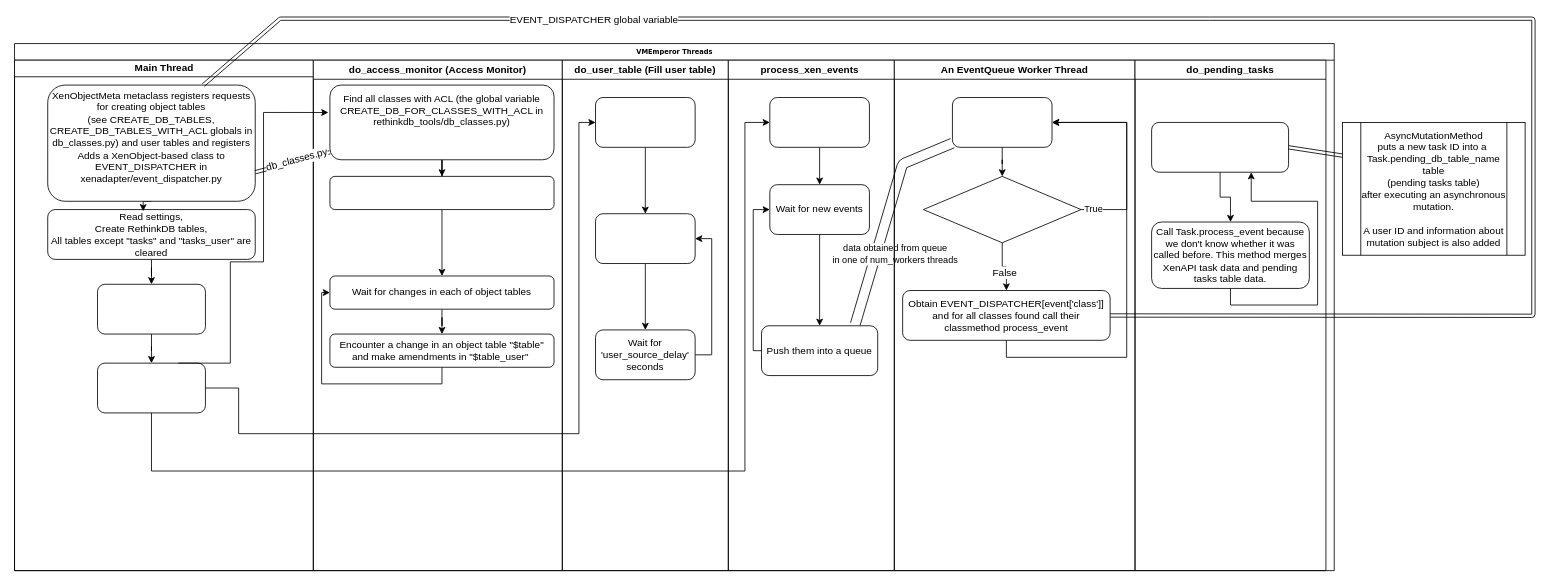
Some shapes in this 1550 by 585 pixel diagram are drawn without their labels. The shapes that lost their labels are listed below. From the top down, each one's centre as x and y in pixels, then its label:
point 645,122: Look up for 'user_source_delay' setting in config.ini
point 819,122: Register for updates of XenAPI events
point 1002,122: Get an event
point 1220,147: Wait for new record in pending tasks table
point 441,193: Build a query that waits for all changes in access fields in object tables
point 1002,209: event['class'] == message
point 645,238: Call get_all_users and get_all_groups classmethods of an authenticator class
point 151,308: Launch web server
point 151,387: Launch backend services
